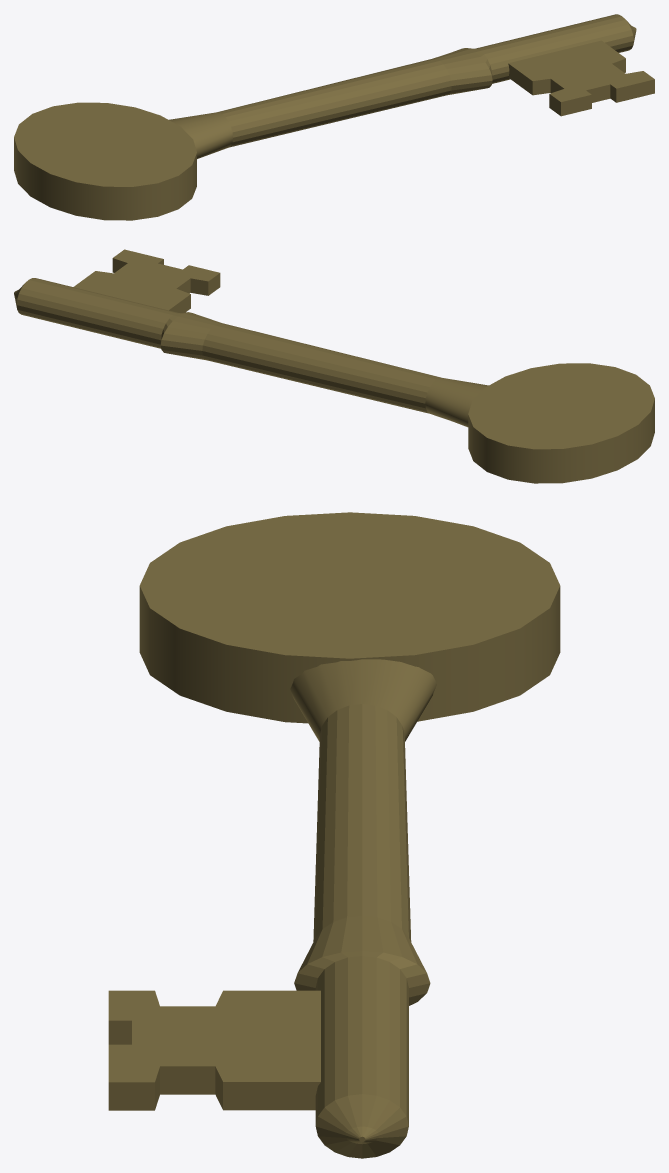
Rendered from Chave.fbx.
3 views of the same model, one above another, from view 1: azimuth 30°, elevation 25°; view 2: azimuth 150°, elevation 25°; view 3: azimuth 270°, elevation 25° (orthographic). The views are drawn at different scales.
Parts seen in each view (by area): view 1: pCube2; view 2: pCube2; view 3: pCube2.
Part boxes in pixels (<box>): pCube2: <box>14,14,654,220</box>; pCube2: <box>14,249,654,483</box>; pCube2: <box>108,512,560,1158</box>.
Bounding box in the file's own units: 4.2 × 0.2214 × 1.35.
